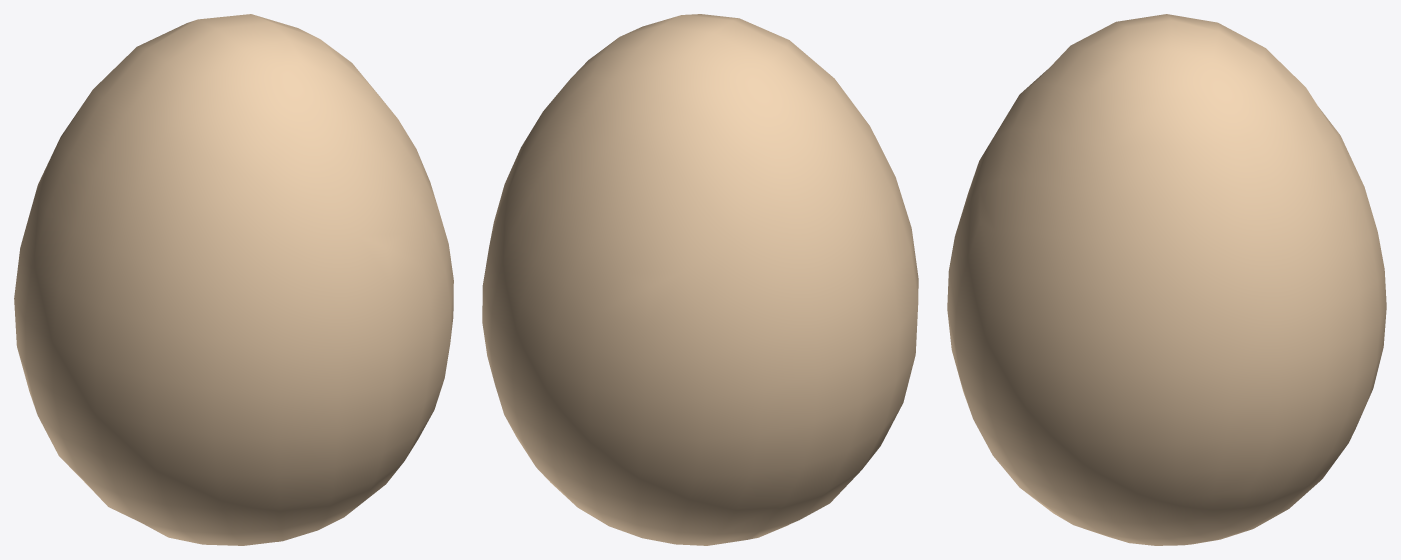
Rendered from egg.fbx.
3 renders of one model, left to right at view 1: azimuth 30°, elevation 25°; view 2: azimuth 150°, elevation 25°; view 3: azimuth 270°, elevation 25°, orthographic.
Visible parts, largest first — view 1: Group005; view 2: Group005; view 3: Group005.
Boxes of the visible parts, bbox=[...] form: Group005: bbox=[14, 14, 453, 545]; Group005: bbox=[482, 14, 918, 545]; Group005: bbox=[947, 14, 1386, 545].
Size of the model in its own units: 637 by 789 by 639.
1 material, 1 textured.
